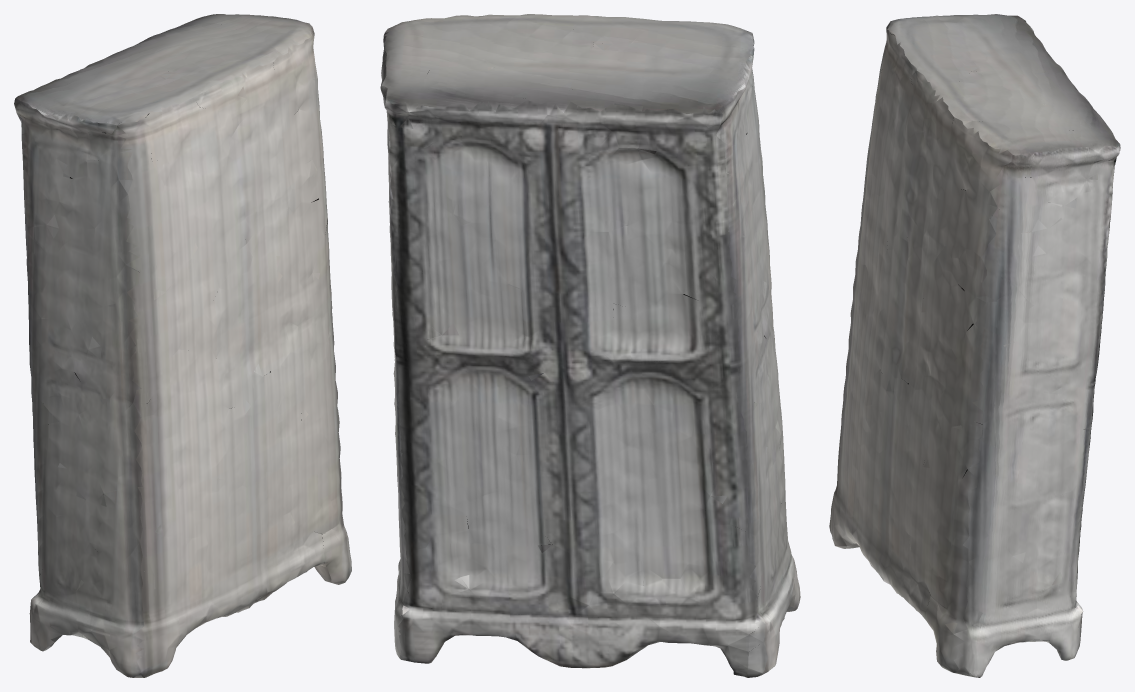
3 views of the same model, side by side, from view 1: azimuth 30°, elevation 25°; view 2: azimuth 150°, elevation 25°; view 3: azimuth 270°, elevation 25° (orthographic). The views are drawn at different scales.
Visible parts, largest first — view 1: world; view 2: world; view 3: world.
Part boxes in pixels (x1,y1,x2,y2): world: (14,14,351,677); world: (380,14,800,677); world: (829,14,1120,677).
Bounding box in the file's own units: 0.5547 × 0.901 × 0.4436.
1 material, 1 textured.
